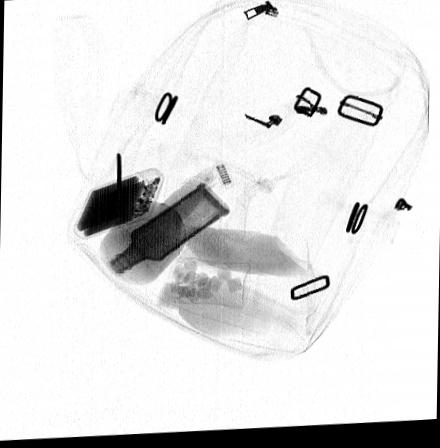Powerbank: (71, 170, 164, 242)
